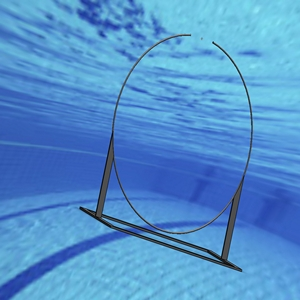circle: (79, 32, 255, 268)
